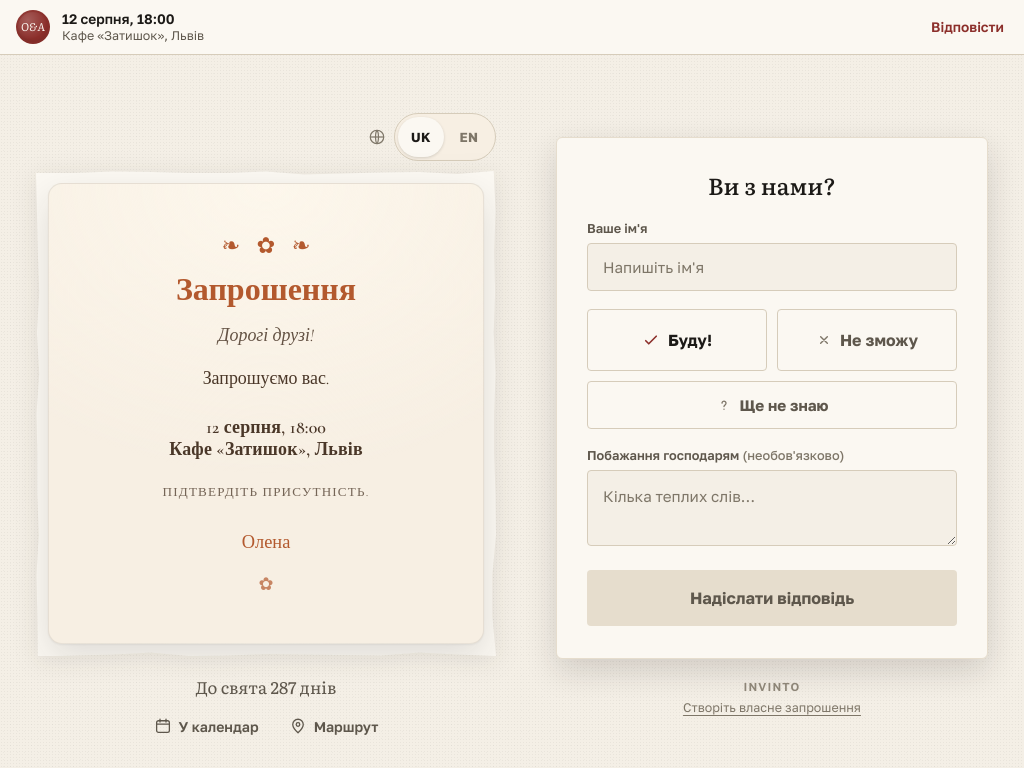
Scenario: the reply card (adr-019 §5.3) › seals a no quietly, with no share
Type "Іван" into the field with placeholder "Напишіть ім'я" at (772, 267), box [587,243,957,291]
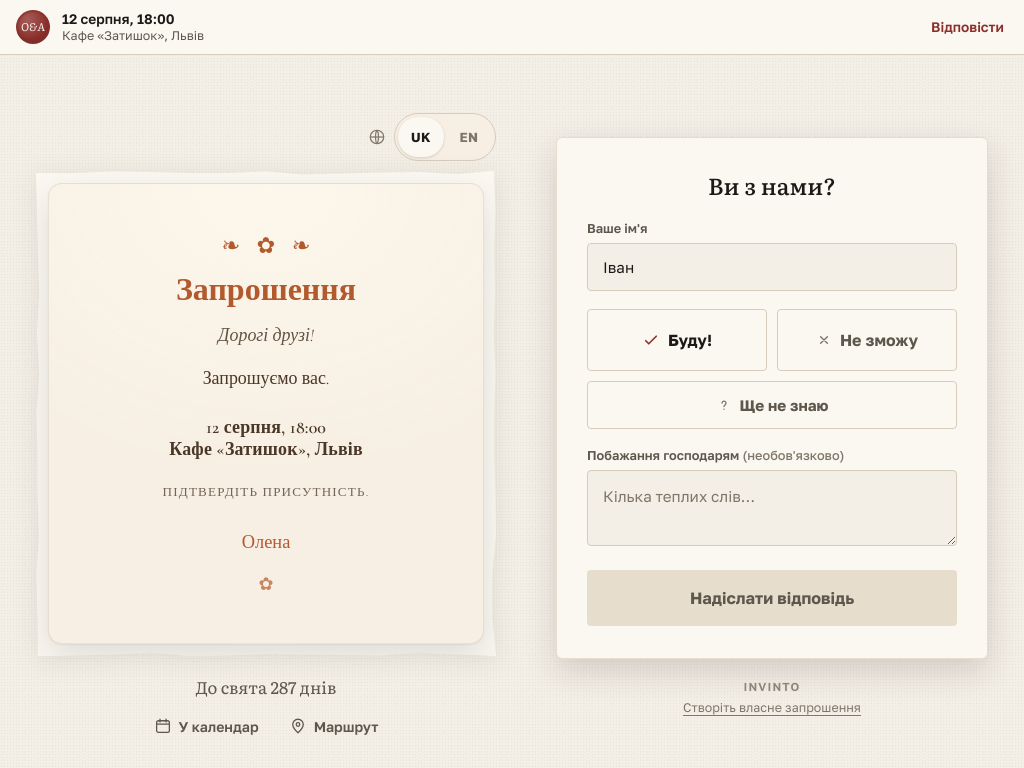
Click the radio button labelled "Не зможу" at (867, 340), box [777,309,957,371]
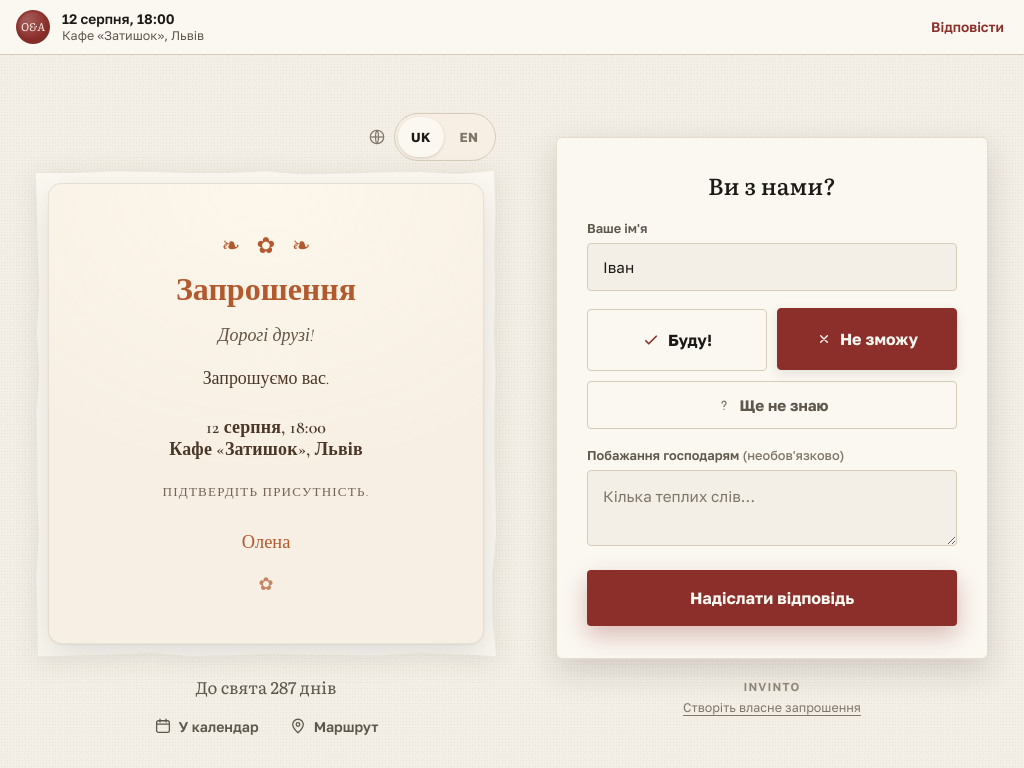
Click the button "Надіслати відповідь" at (772, 598), box [587,570,957,626]
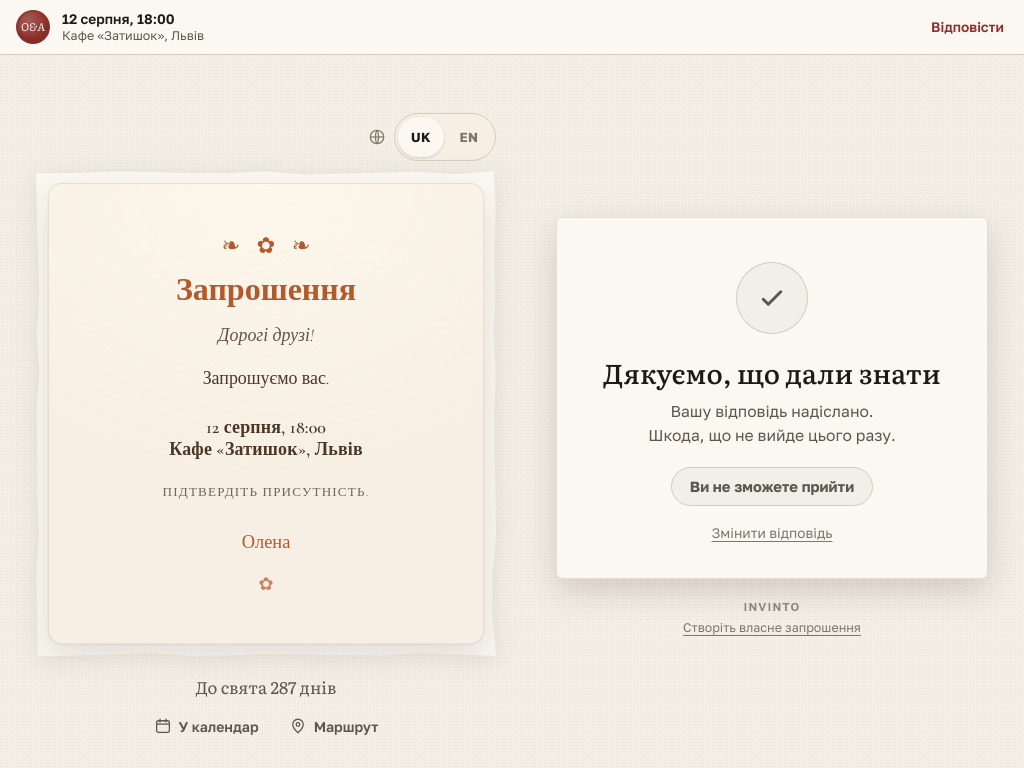
Expected: the heading "Дякуємо, що дали знати" is shown, [597,352,947,392]
Expected: the 1st element with class "muted" is shown, [736,262,808,334]
